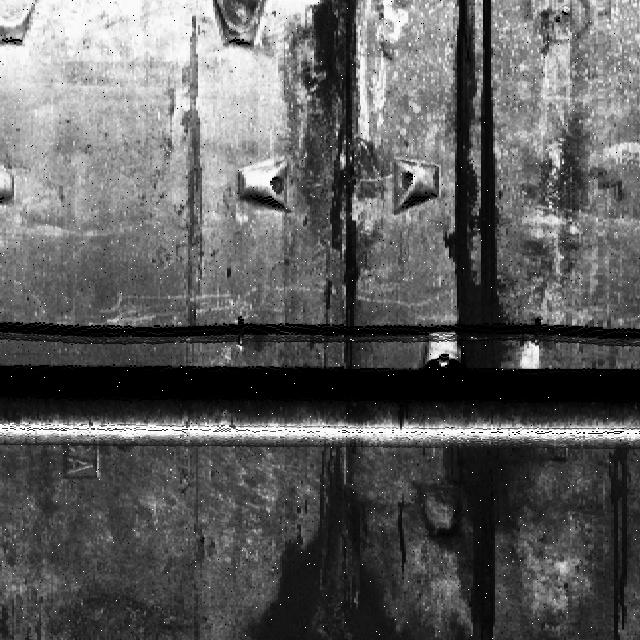leakage: (290, 1, 383, 361), (236, 439, 402, 639), (417, 429, 557, 639), (455, 0, 509, 364)
